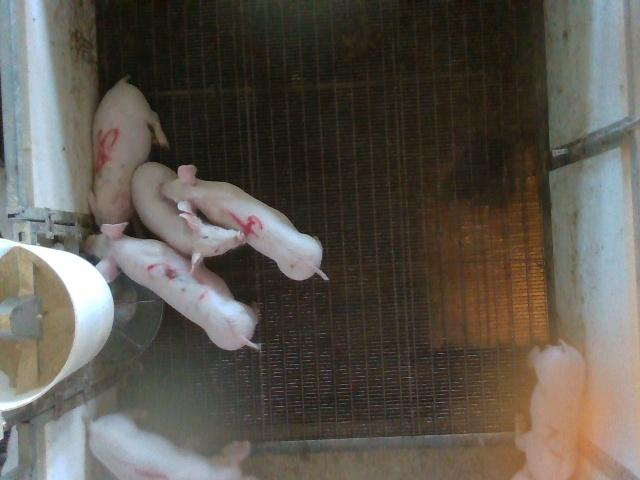pig-1: (89, 415, 236, 479)
pig-2: (515, 341, 585, 478)
pig-3: (86, 222, 260, 350)
pig-4: (162, 165, 329, 281)
pig-5: (89, 76, 168, 224)
